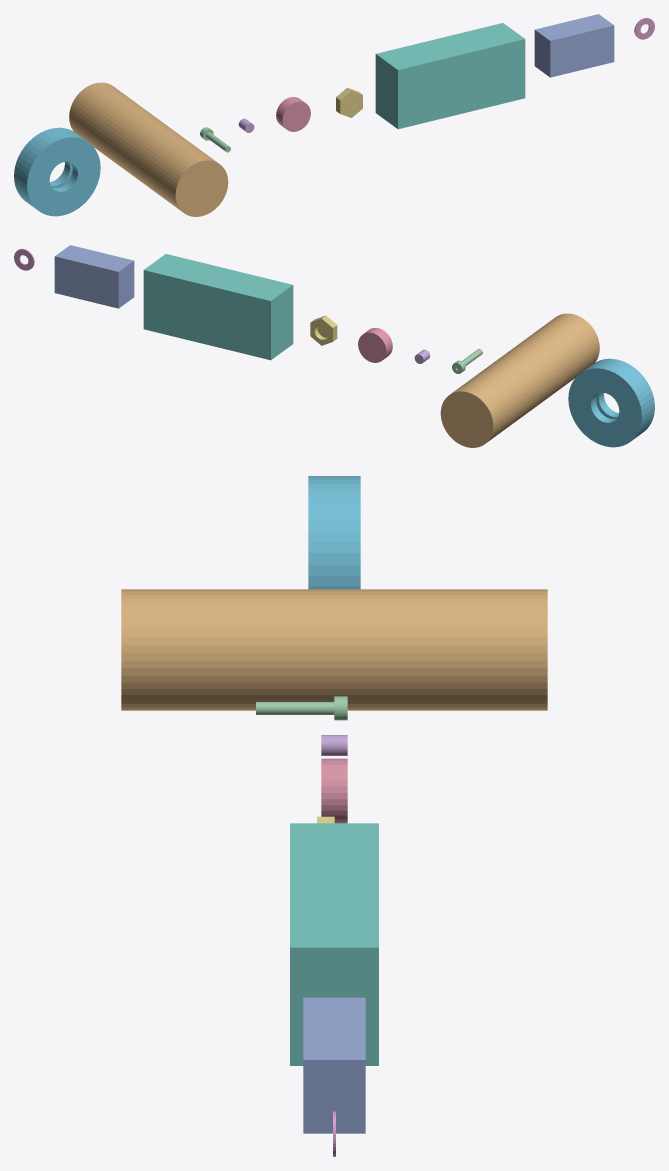
File: vitamin_addresses_demo.glb
3 views of the same model, one above another, from view 1: azimuth 30°, elevation 25°; view 2: azimuth 150°, elevation 25°; view 3: azimuth 270°, elevation 25° (orthographic). The views are drawn at different scales.
Parts seen in each view (by area): view 1: sensor_hc-sr04, cell_18650, bearing_6000-2rs, servo_mg90s, motor_28byj48, nut_din439-m5, washer_iso7089-m3; view 2: sensor_hc-sr04, cell_18650, bearing_6000-2rs, servo_mg90s, motor_28byj48, nut_din439-m5, washer_iso7089-m3; view 3: cell_18650, sensor_hc-sr04, servo_mg90s, bearing_6000-2rs, motor_28byj48, fastener_iso4762-m2.
Part boxes in pixels (x1=…): sensor_hc-sr04: x1=375, y1=23, x2=525, y2=129; cell_18650: x1=69, y1=82, x2=228, y2=216; bearing_6000-2rs: x1=14, y1=127, x2=100, y2=216; servo_mg90s: x1=534, y1=14, x2=614, y2=77; motor_28byj48: x1=276, y1=97, x2=310, y2=131; nut_din439-m5: x1=336, y1=87, x2=362, y2=117; washer_iso7089-m3: x1=634, y1=17, x2=654, y2=39; sensor_hc-sr04: x1=143, y1=254, x2=293, y2=360; cell_18650: x1=440, y1=313, x2=599, y2=447; bearing_6000-2rs: x1=568, y1=358, x2=654, y2=447; servo_mg90s: x1=54, y1=245, x2=134, y2=308; motor_28byj48: x1=358, y1=328, x2=392, y2=362; nut_din439-m5: x1=310, y1=315, x2=337, y2=345; washer_iso7089-m3: x1=14, y1=248, x2=34, y2=270; cell_18650: x1=121, y1=589, x2=547, y2=710; sensor_hc-sr04: x1=290, y1=823, x2=378, y2=1065; servo_mg90s: x1=303, y1=997, x2=365, y2=1133; bearing_6000-2rs: x1=308, y1=476, x2=360, y2=589; motor_28byj48: x1=321, y1=758, x2=347, y2=823; fastener_iso4762-m2: x1=256, y1=696, x2=347, y2=720.
Size of the model in its own units: 224 by 26 by 65.2.
